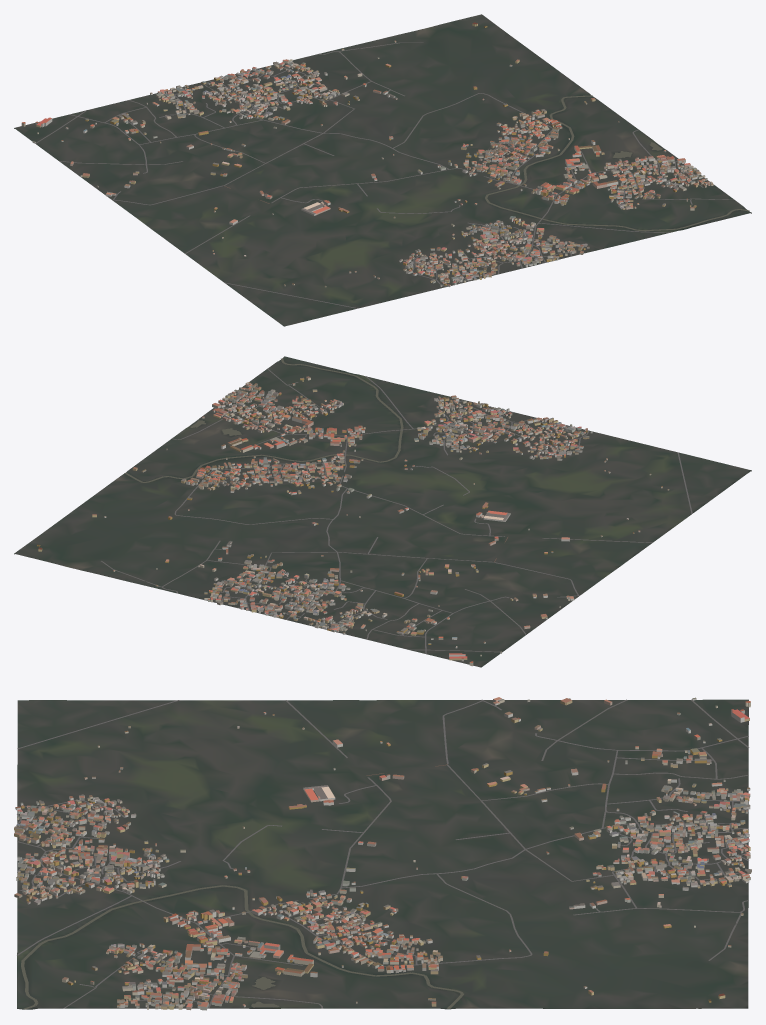
The picture shows the model from 3 angles, top to bottom: view 1: azimuth 30°, elevation 25°; view 2: azimuth 150°, elevation 25°; view 3: azimuth 270°, elevation 25°; orthographic projection. The views are drawn at different scales.
Visible parts, largest first — view 1: ground, buildings, roads, water; view 2: ground, buildings, roads, water; view 3: ground, buildings, roads, water.
Boxes of the visible parts, bbox=[...] form: ground: bbox=[14, 14, 751, 326]; buildings: bbox=[21, 22, 713, 287]; roads: bbox=[35, 42, 734, 308]; water: bbox=[485, 95, 749, 231]; ground: bbox=[14, 356, 751, 667]; buildings: bbox=[37, 376, 669, 666]; roads: bbox=[101, 368, 692, 653]; water: bbox=[124, 358, 403, 482]; ground: bbox=[17, 699, 748, 1009]; buildings: bbox=[14, 697, 751, 1010]; roads: bbox=[17, 699, 749, 1008]; water: bbox=[21, 885, 463, 1009].
Bounding box in the file's own units: 1409 × 16.52 × 1415.
